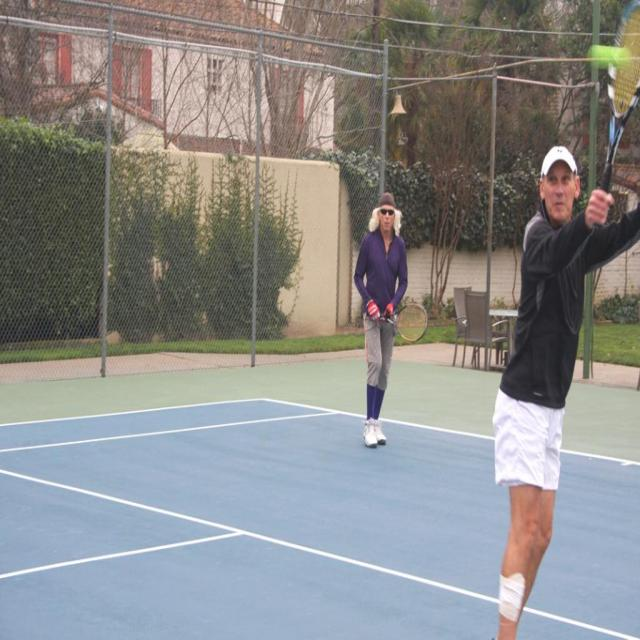nomask: (544, 160, 574, 221), (380, 204, 394, 231)
